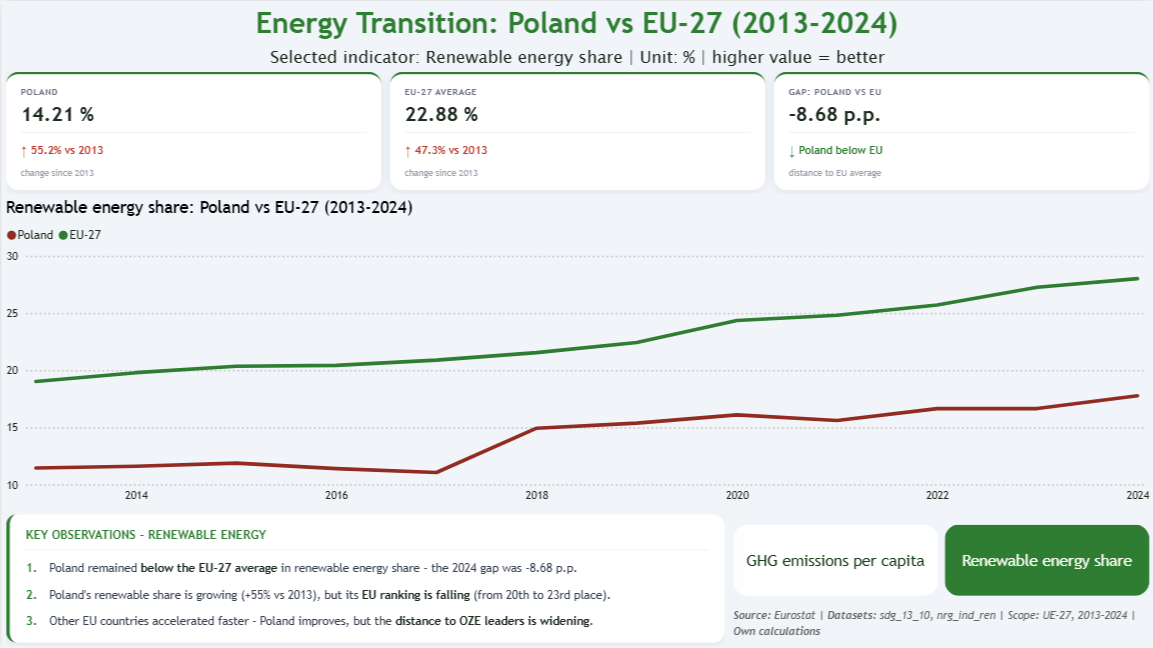

What the dashboard file says about the page in this screenshot:
{"tool":"powerbi","page":{"name":"Overview","canvas":[1280,720],"ordinal":0},"visuals":[{"type":"lineChart","fields":{"Category":["fact_indicator_value.year"],"Y":["fact_indicator_value.Wartość Polski","fact_indicator_value.Średnia UE"]},"box":[0,218.3,1280,346.7],"z":0},{"type":"textbox","box":[173.3,0,931.7,61.7],"z":1000},{"type":"textbox","box":[210,48.3,860,25],"z":2000},{"type":"advancedSlicerVisual","title":"Wybierz wskaźnik","fields":{"Values":["fact_indicator_value.indicator_label_clean"]},"box":[808,577.4,472.4,89.1],"z":3000},{"type":"htmlContent443BE3AD55E043BF878BED274D3A6855","fields":{"content":["fact_indicator_value.KPI HTML"]},"box":[0,73.3,1280,145],"z":4000},{"type":"htmlContent443BE3AD55E043BF878BED274D3A6855","fields":{"content":["fact_indicator_value.Key Insights HTML"]},"box":[0,564.7,808,155.9],"z":5000},{"type":"textbox","box":[808,666.5,472.4,54.1],"z":6000}]}

Visuals, with their boxes in screenshot pixels (x1, y1, x2, y2), scaled from the page's 1280x720 canvas onto the 1153x648 screenshot:
lineChart - fact_indicator_value.year x fact_indicator_value.Wartość Polski: 0/196/1152/508
textbox: 156/0/995/56
textbox: 189/43/964/66
"Wybierz wskaźnik" advancedSlicerVisual: 728/520/1152/600
htmlContent443BE3AD55E043BF878BED274D3A6855 - fact_indicator_value.KPI HTML: 0/66/1152/196
htmlContent443BE3AD55E043BF878BED274D3A6855 - fact_indicator_value.Key Insights HTML: 0/508/728/647
textbox: 728/600/1152/647
